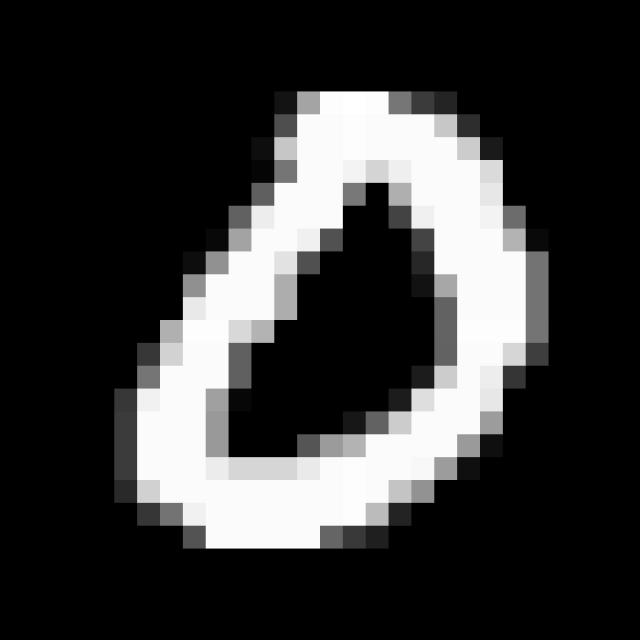zero -0-: (110, 71, 566, 571)
